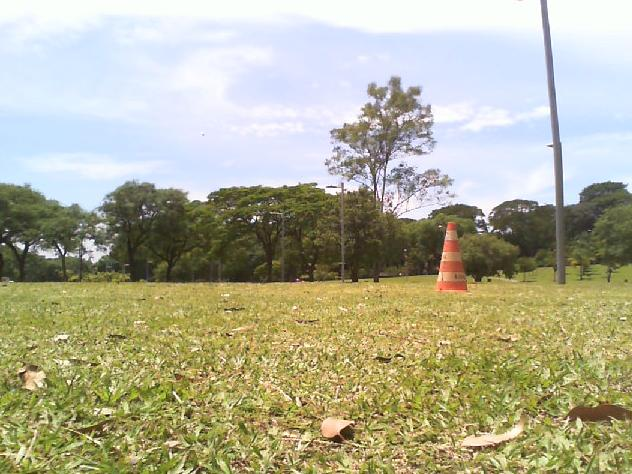0 cone: (429, 221, 480, 293)
